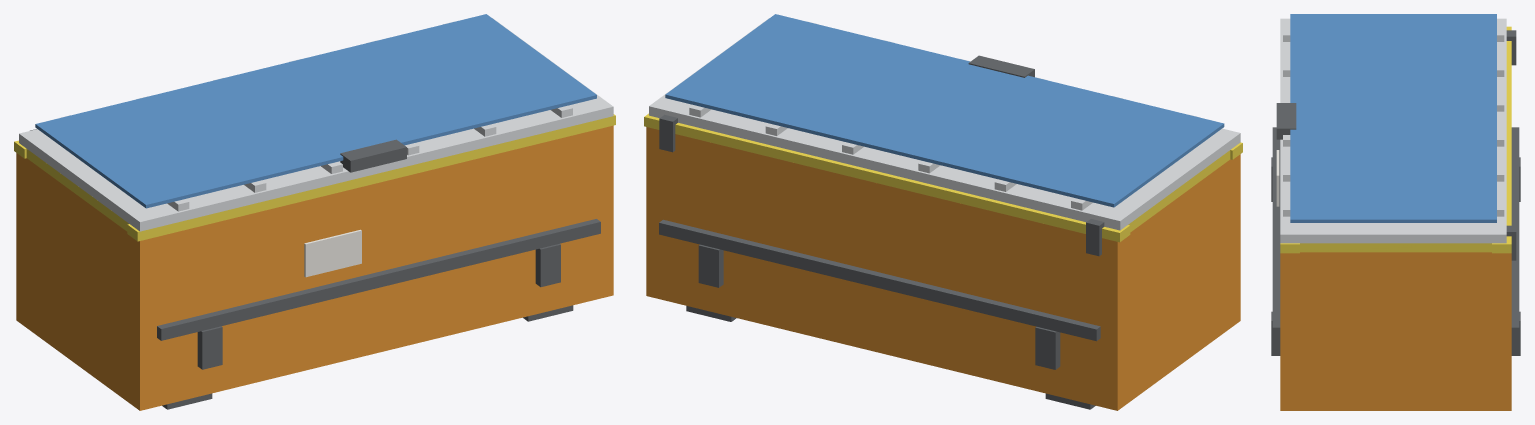
File: demolition-and-site-clearance-demolition-and-site-clea-a4c22fb5__35702.glb
3 renders of one model, left to right at view 1: azimuth 30°, elevation 25°; view 2: azimuth 150°, elevation 25°; view 3: azimuth 270°, elevation 25°, orthographic. The views are drawn at different scales.
Visible parts, largest first — view 1: demolition-and-site-clearance-waste-skip-covered, skip-lid/blue, skip-lid/steel, skip-lid/charcoal; view 2: demolition-and-site-clearance-waste-skip-covered, skip-lid/blue, skip-lid/steel, skip-lid/charcoal; view 3: demolition-and-site-clearance-waste-skip-covered, skip-lid/blue, skip-lid/steel, skip-lid/charcoal.
Part boxes in pixels (<box>): demolition-and-site-clearance-waste-skip-covered: <box>14,114,615,410</box>; skip-lid/blue: <box>35,14,596,208</box>; skip-lid/steel: <box>19,18,613,231</box>; skip-lid/charcoal: <box>340,139,406,172</box>; demolition-and-site-clearance-waste-skip-covered: <box>644,113,1242,410</box>; skip-lid/blue: <box>665,14,1224,207</box>; skip-lid/steel: <box>649,18,1240,230</box>; skip-lid/charcoal: <box>968,55,1034,77</box>; demolition-and-site-clearance-waste-skip-covered: <box>1271,26,1520,410</box>; skip-lid/blue: <box>1290,14,1496,222</box>; skip-lid/steel: <box>1280,18,1506,243</box>; skip-lid/charcoal: <box>1276,103,1296,139</box>.
Size of the model in its own units: 4.24 by 1.8 by 2.05.
